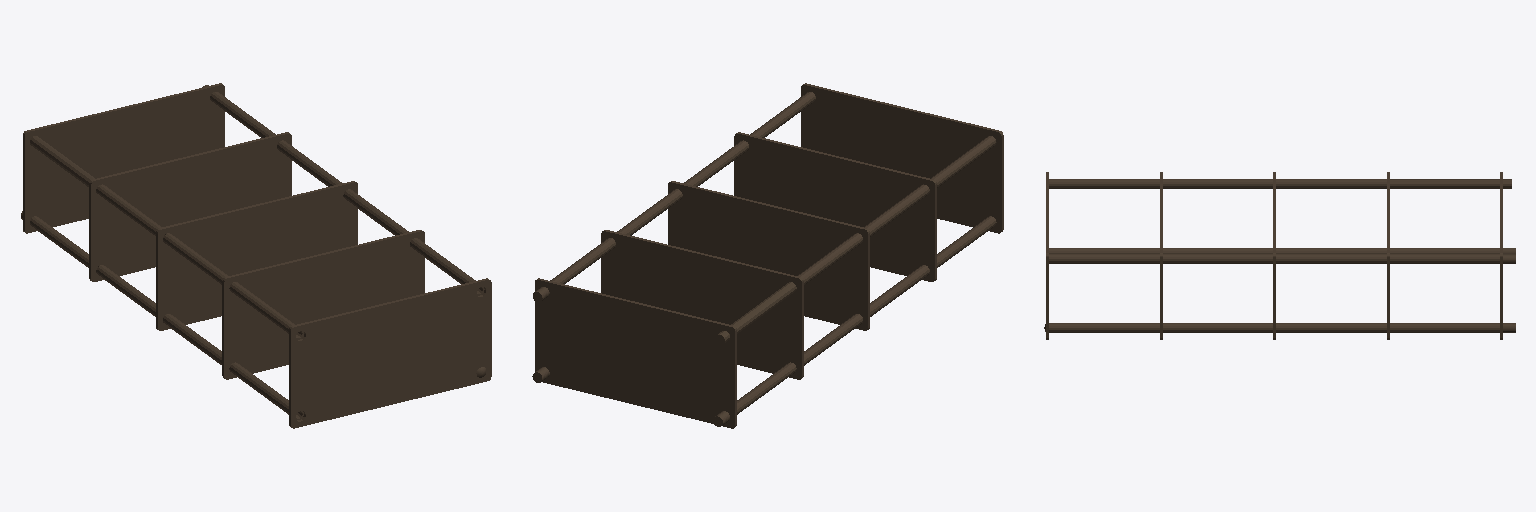
robot.urdf — rack:
<?xml version="1.0" encoding="utf-8"?>
<!-- This URDF was automatically created by SolidWorks to URDF Exporter! Originally created by Stephen Brawner (brawner@gmail.com) 
     Commit Version: 1.6.0-4-g7f85cfe  Build Version: 1.6.7995.38578
     For more information, please see http://wiki.ros.org/sw_urdf_exporter -->
<robot
  name="rack">
  <link concave="yes"
    name="base_link">
    <inertial>
      <origin
        xyz="0.0023333 -0.0013666 0.01169"
        rpy="0 0 0" />
      <mass
        value="10.386" />
      <inertia
        ixx="0.080842"
        ixy="0.0036057"
        ixz="0.0047019"
        iyy="0.27907"
        iyz="-0.0020027"
        izz="0.31963" />
    </inertial>
    <visual>
      <origin
        xyz="0 0 0"
        rpy="0 0 0" />
      <geometry>
        <mesh
          filename="package://rack/meshes/base_link.STL" />
      </geometry>
      <material
        name="wood">
        <color
          rgba="0.34 0.29 0.24 1" />
      </material>
    </visual>
    <collision concave="yes">
      <origin
        xyz="0 0 0"
        rpy="0 0 0" />
      <geometry>
        <mesh
          filename="package://rack/meshes/base_link.STL" />
      </geometry>
    </collision>
  </link>
</robot>

--- Render facts (derived) ---
3 views of the same robot in one strip: view 1: azimuth 30°, elevation 25°; view 2: azimuth 150°, elevation 25°; view 3: azimuth 270°, elevation 25° (orthographic).
Model rack with 1 links and 0 joints (none), rooted at base_link, posed all joints at 0.
Links seen in each view (by area): view 1: base_link; view 2: base_link; view 3: base_link.
Boxes of the visible links, left/top/right/bottom form: base_link: left=21, top=83, right=491, bottom=428; base_link: left=532, top=83, right=1003, bottom=428; base_link: left=1044, top=172, right=1515, bottom=339.
Size in the robot's own frame: 0.6 by 1.43 by 0.29 metres.
Meshes: 1 distinct files referenced, 1 mesh visuals loaded (1 binary STL).
